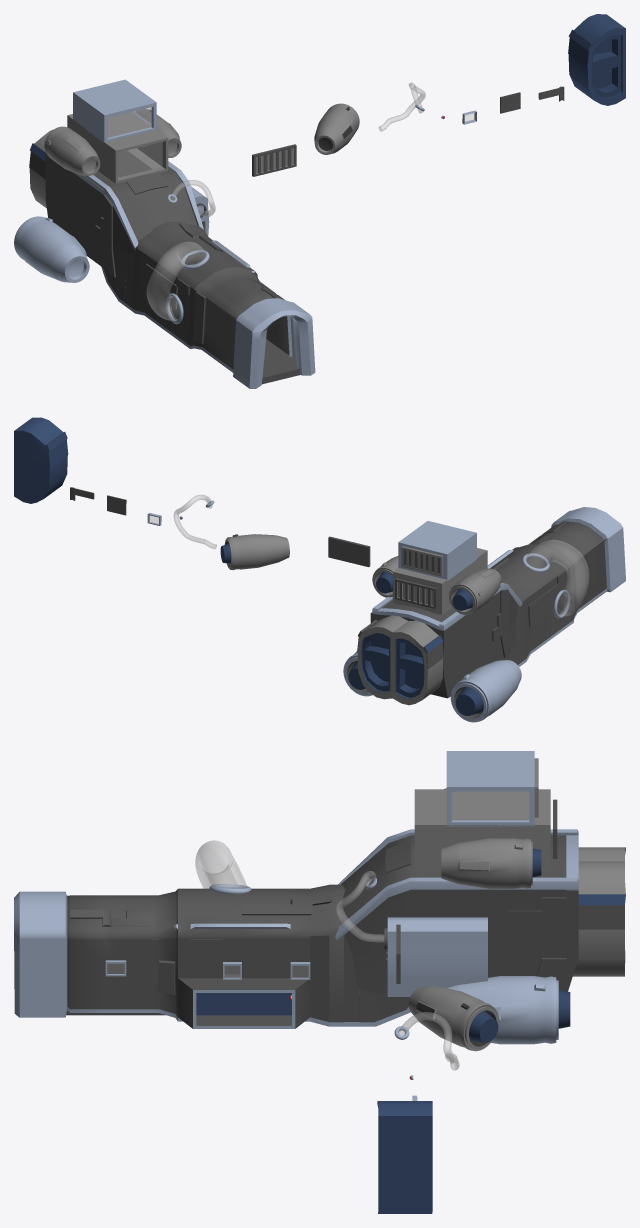
The model's file is Model_Mothership.fbx.
3 views of the same model, one above another, from view 1: azimuth 30°, elevation 25°; view 2: azimuth 150°, elevation 25°; view 3: azimuth 270°, elevation 25° (orthographic). The views are drawn at different scales.
Visible parts, largest first — view 1: Ship, Big_engine, Small_motor, Grate, Glass_tube; view 2: Ship, Big_engine, Small_motor, Grate, Glass_tube; view 3: Ship, Big_engine, Small_motor, Glass_tube.
Part boxes in pixels (x1=…): Ship: x1=14, y1=79, x2=315, y2=388; Big_engine: x1=568, y1=14, x2=625, y2=105; Small_motor: x1=314, y1=103, x2=359, y2=154; Grate: x1=252, y1=144, x2=296, y2=176; Glass_tube: x1=379, y1=82, x2=425, y2=131; Ship: x1=343, y1=507, x2=625, y2=722; Big_engine: x1=14, y1=417, x2=68, y2=503; Small_motor: x1=220, y1=534, x2=289, y2=570; Grate: x1=328, y1=536, x2=370, y2=567; Glass_tube: x1=173, y1=494, x2=216, y2=549; Ship: x1=14, y1=751, x2=625, y2=1044; Big_engine: x1=377, y1=1101, x2=432, y2=1213; Small_motor: x1=408, y1=986, x2=498, y2=1051; Glass_tube: x1=394, y1=1012, x2=459, y2=1070.
Bounding box in the file's own units: 18134 × 5232 × 12437.
